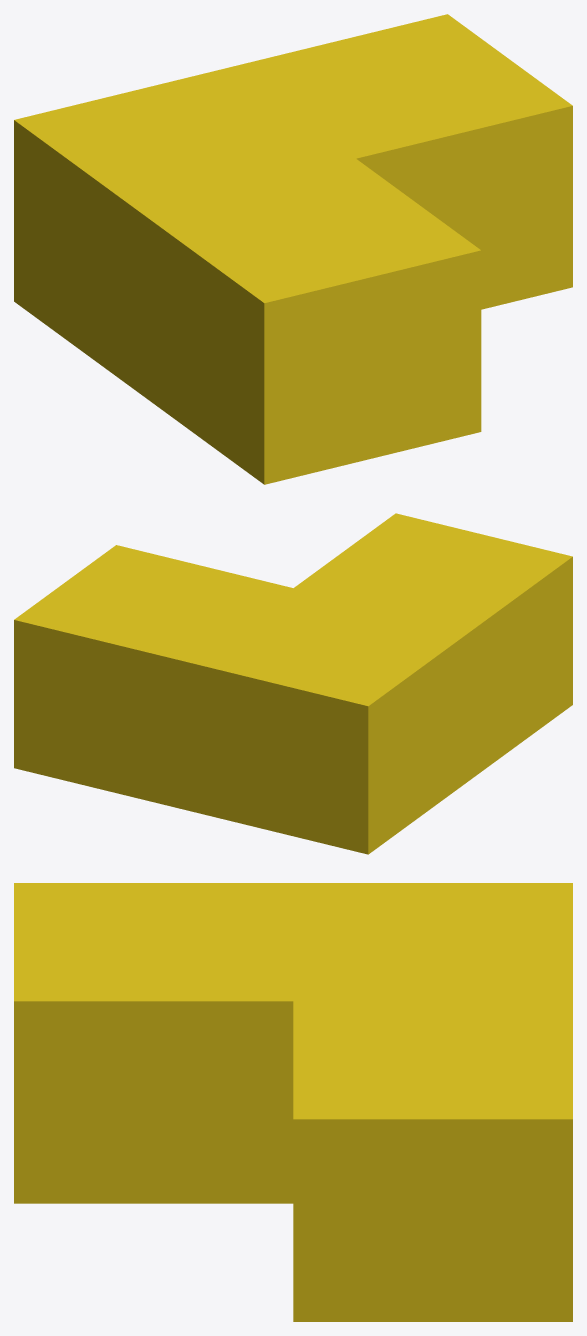
Rendered from placeholder21.glb.
The picture shows the model from 3 angles, top to bottom: view 1: azimuth 30°, elevation 25°; view 2: azimuth 150°, elevation 25°; view 3: azimuth 270°, elevation 25°; orthographic projection. The views are drawn at different scales.
Parts seen in each view (by area): view 1: Cube; view 2: Cube; view 3: Cube.
Boxes of the visible parts, <box> form: Cube: <box>14,14,572,484</box>; Cube: <box>14,513,572,854</box>; Cube: <box>14,883,572,1321</box>.
Size of the model in its own units: 4 by 1.6 by 4.
